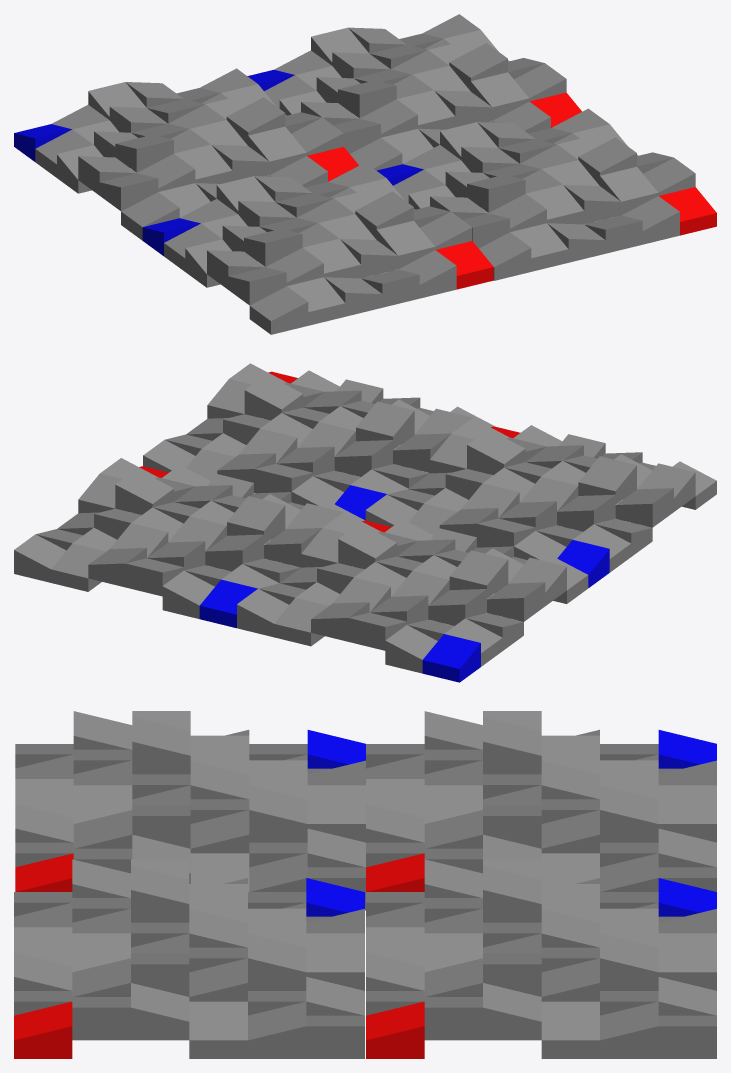
Rendered from TerrainB.dae.
3 views of the same model, one above another, from view 1: azimuth 30°, elevation 25°; view 2: azimuth 150°, elevation 25°; view 3: azimuth 270°, elevation 25° (orthographic). The views are drawn at different scales.
Visible parts, largest first — view 1: group_2 (×104), group_6 (×4), group_4 (×4); view 2: group_2 (×114), group_4 (×4); view 3: group_2 (×124), group_6 (×4), group_4 (×4).
Part boxes in pixels (bbox=[...]): group_2 (×104): bbox=[35, 14, 695, 334]; group_6 (×4): bbox=[307, 92, 716, 289]; group_4 (×4): bbox=[14, 69, 423, 255]; group_2 (×114): bbox=[14, 363, 716, 673]; group_4 (×4): bbox=[199, 485, 609, 682]; group_2 (×124): bbox=[14, 711, 716, 1058]; group_6 (×4): bbox=[14, 853, 424, 1058]; group_4 (×4): bbox=[306, 730, 716, 916].
Bounding box in the file's own units: 189 × 189 × 20.84.
